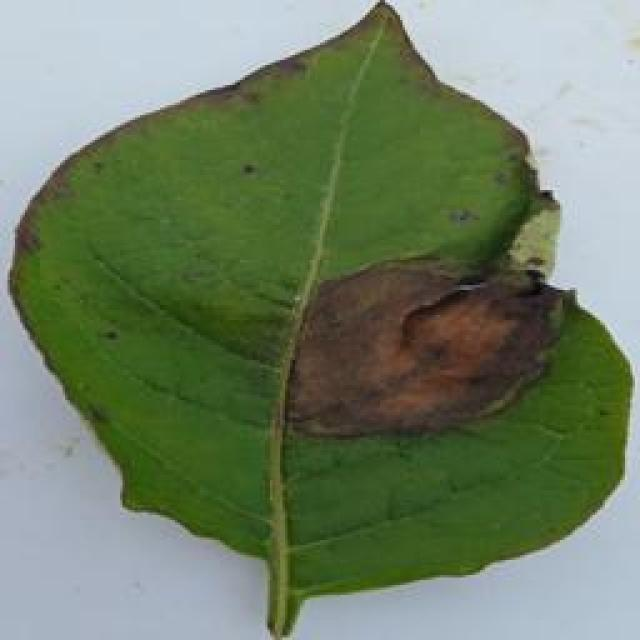Potato_Late_Blight: (12, 4, 622, 632)
